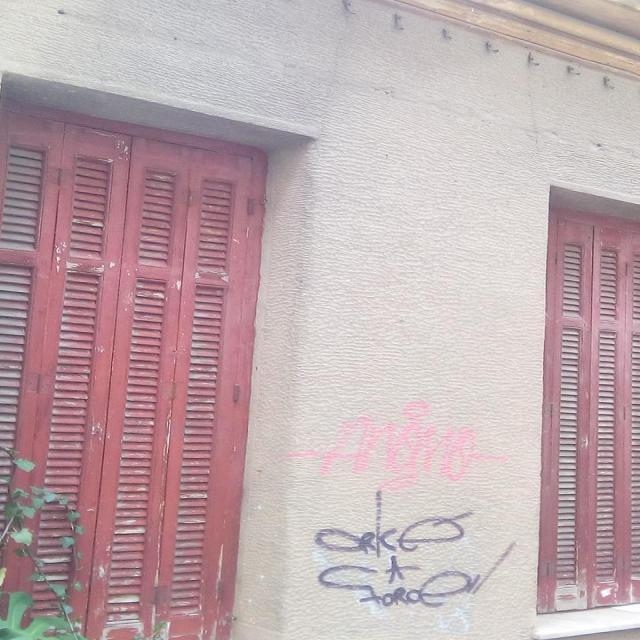nonspitting: (290, 397, 507, 489), (316, 511, 515, 606)
